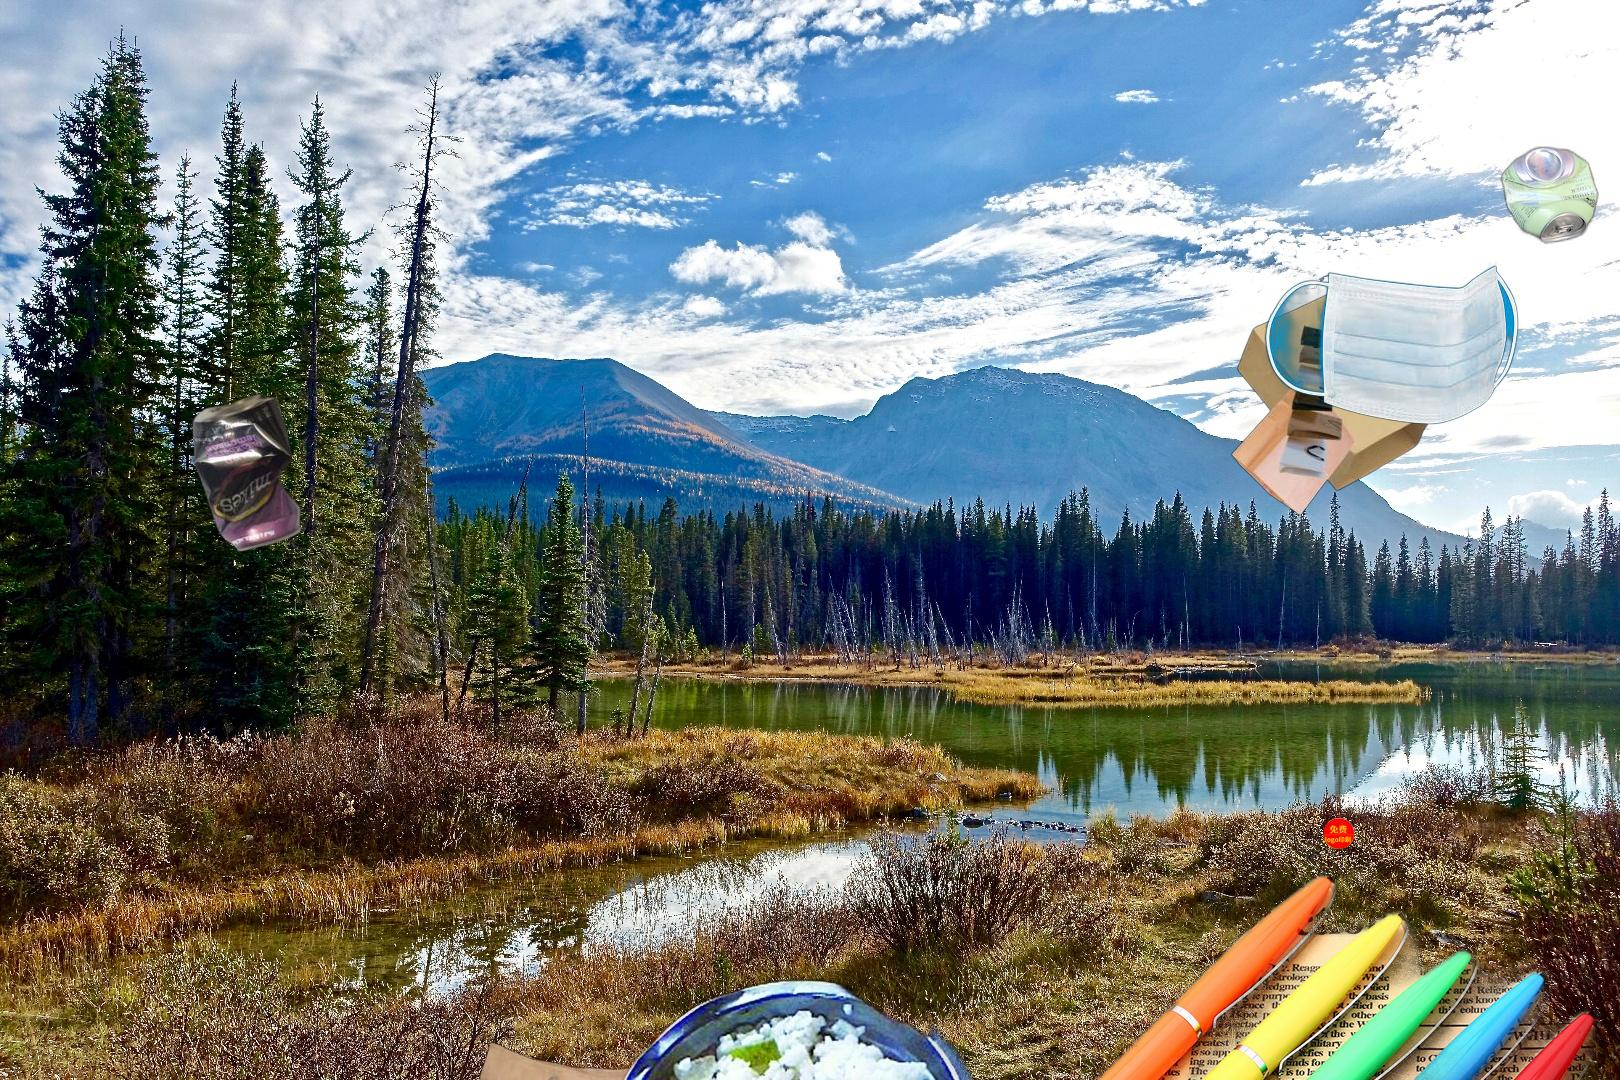biological: (585, 976, 985, 1080)
clothes: (401, 1038, 772, 1080)
metal-cans: (1497, 141, 1620, 489), (189, 390, 305, 555)
paper-bag: (1230, 285, 1440, 518)
penholder: (938, 867, 1611, 1080), (1320, 703, 1468, 851)
trash: (1262, 260, 1521, 427)
